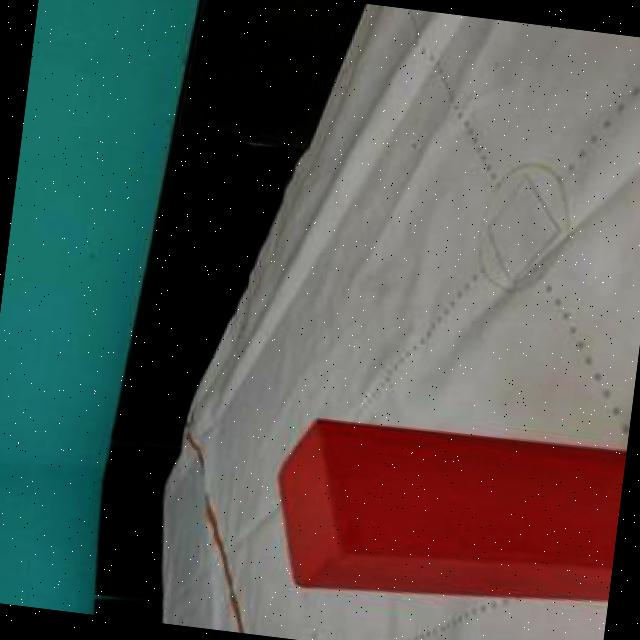redbox: (261, 411, 626, 622)
